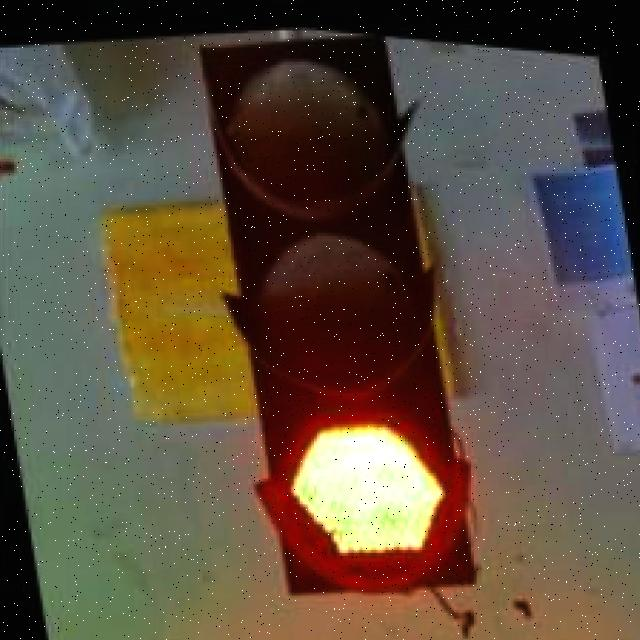Lampu Merah: (191, 14, 482, 612)
